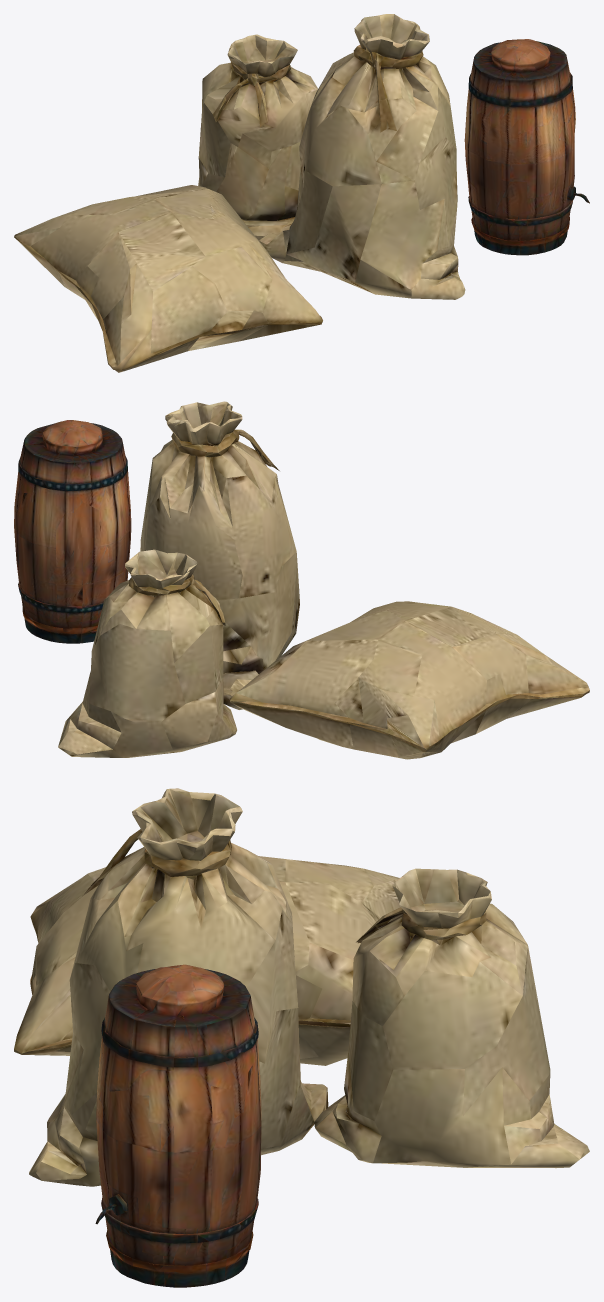
File: sacks-barrel.lod1.glb
3 renders of one model, top to bottom at view 1: azimuth 30°, elevation 25°; view 2: azimuth 150°, elevation 25°; view 3: azimuth 270°, elevation 25°, orthographic. The views are drawn at different scales.
Bounding box in the file's own units: 1.65 × 0.75 × 1.1.
2 materials, 2 textured.
